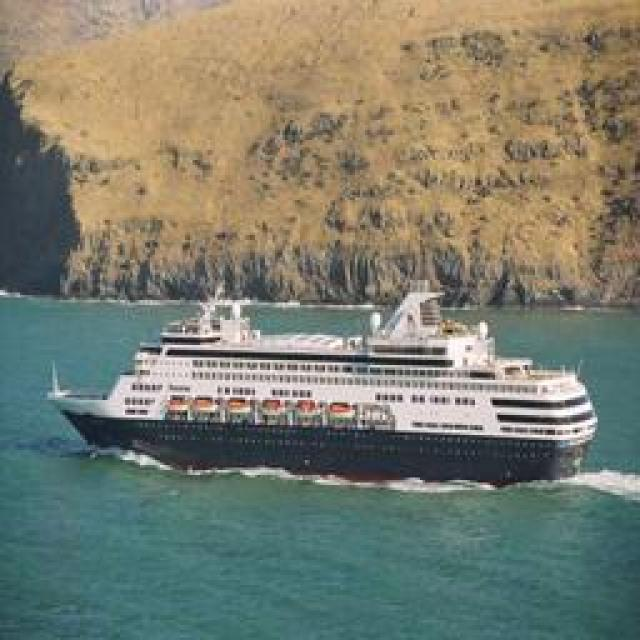CIV_Ship: (45, 292, 585, 478)
